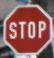Stop sign: (0, 0, 53, 57)
